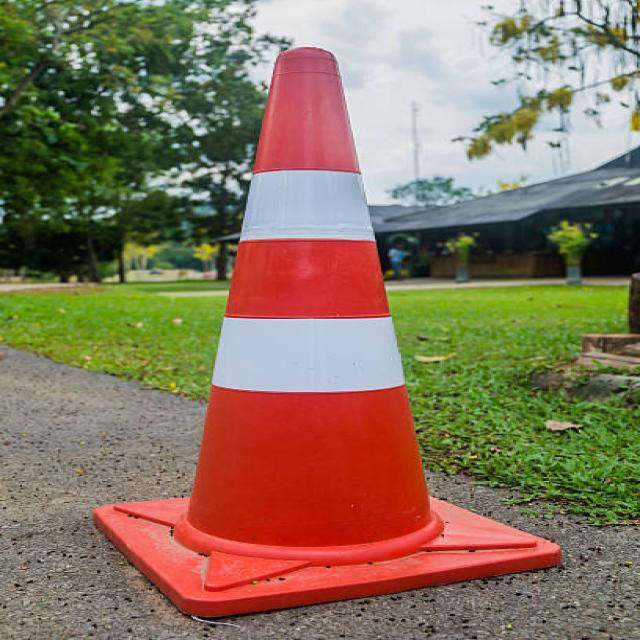Traffic Cone: (65, 14, 580, 631)
